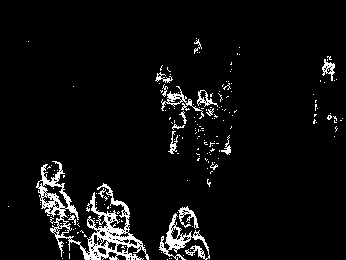person: (89, 185, 149, 260), (38, 162, 82, 257), (163, 207, 205, 260), (205, 92, 229, 177), (163, 84, 184, 154)
